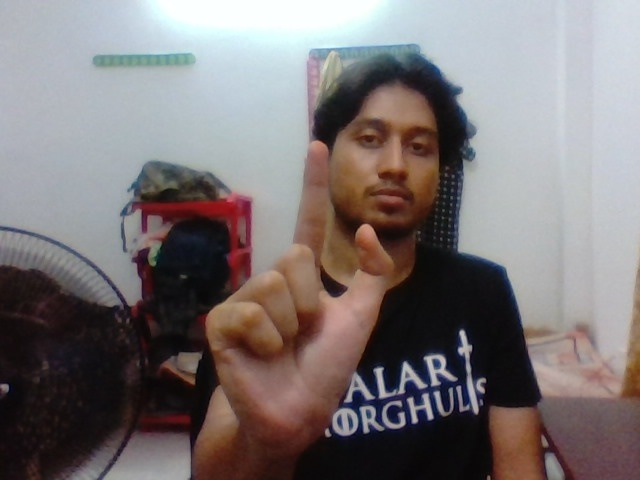J: (237, 127, 402, 384)
